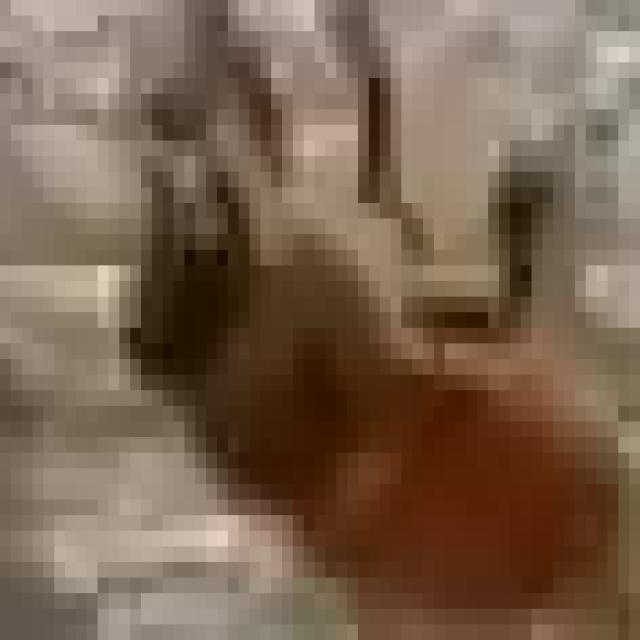honeybee: (119, 125, 640, 640)
